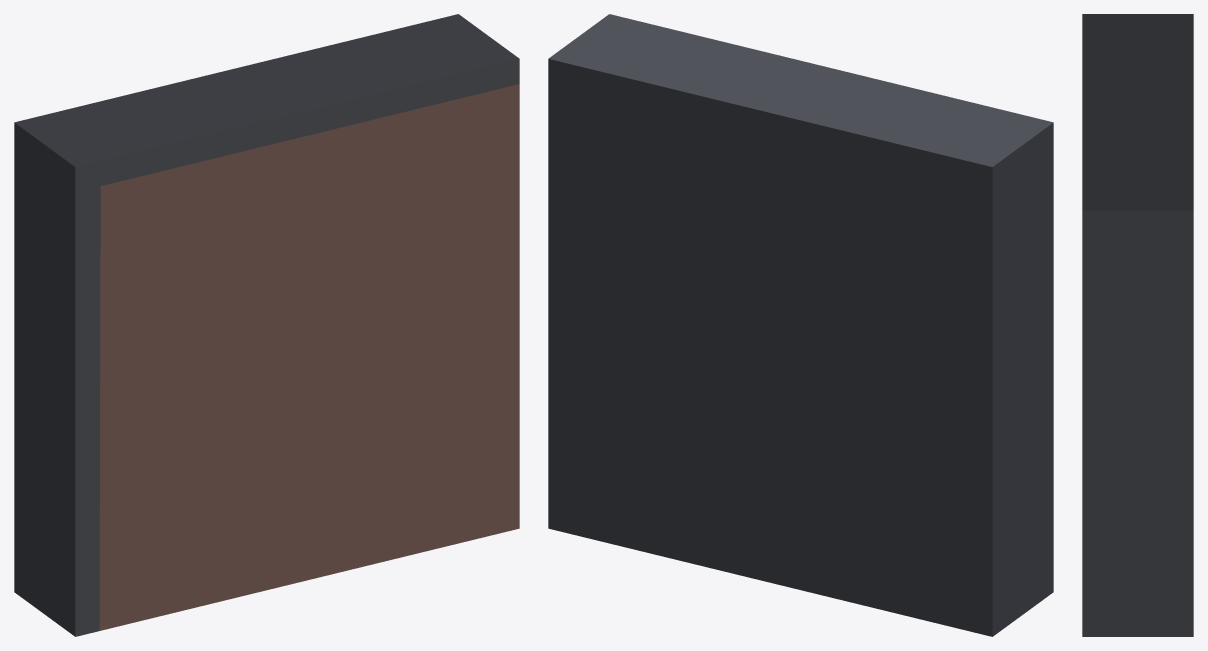
File: GreyStoneEdgeLargeLightSoilFlooring1.fbx
The picture shows the model from 3 angles, left to right: view 1: azimuth 30°, elevation 25°; view 2: azimuth 150°, elevation 25°; view 3: azimuth 270°, elevation 25°; orthographic projection. The views are drawn at different scales.
Visible parts, largest first — view 1: GreyStoneEdgeLargeLightSoilFlooring1; view 2: GreyStoneEdgeLargeLightSoilFlooring1; view 3: GreyStoneEdgeLargeLightSoilFlooring1.
Boxes of the visible parts, left/top/right/bottom form: GreyStoneEdgeLargeLightSoilFlooring1: left=14, top=14, right=519, bottom=636; GreyStoneEdgeLargeLightSoilFlooring1: left=548, top=14, right=1053, bottom=636; GreyStoneEdgeLargeLightSoilFlooring1: left=1082, top=14, right=1193, bottom=636.
Bounding box in the file's own units: 1199 × 1212 × 286.
Materials: 2 (2 with a texture image).
